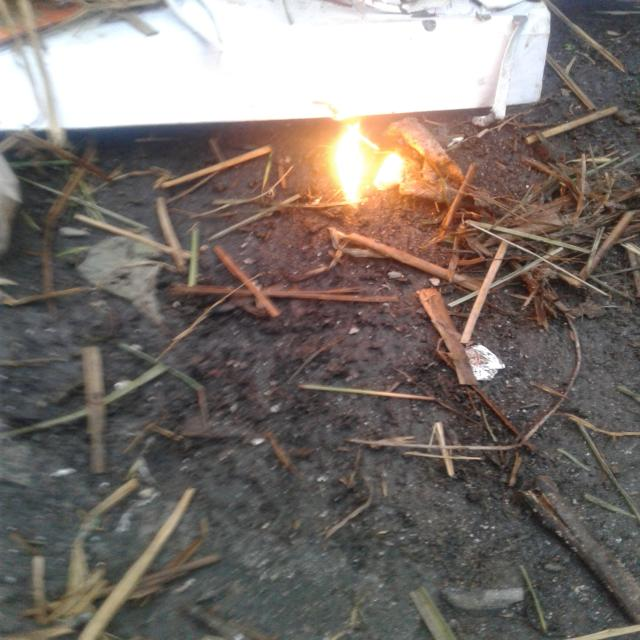firerotation: (313, 116, 414, 207)
